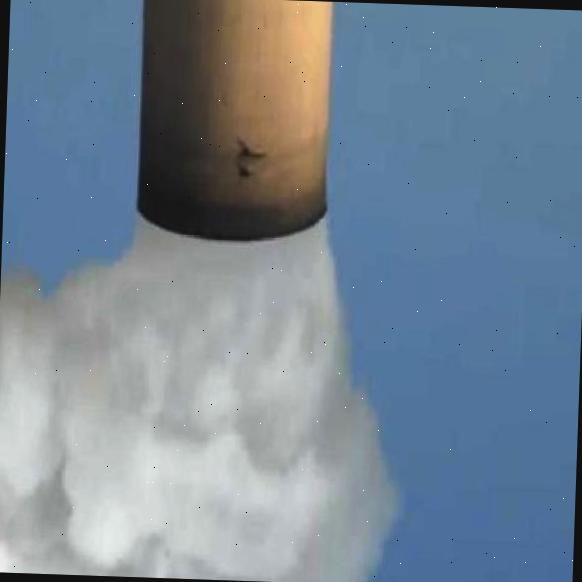smoke: (0, 182, 487, 582)
